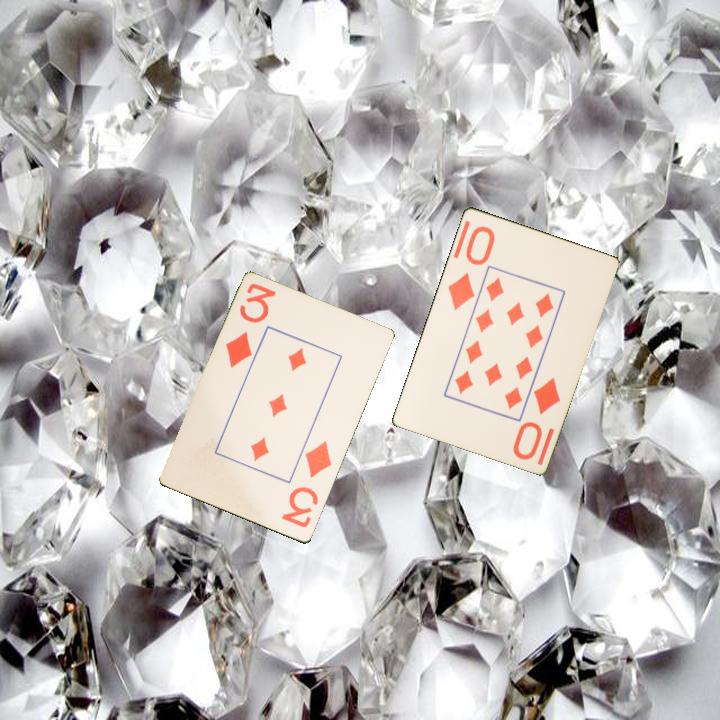10d: (443, 222, 498, 313), (510, 373, 564, 463)
3d: (278, 437, 335, 531), (222, 280, 279, 371)
